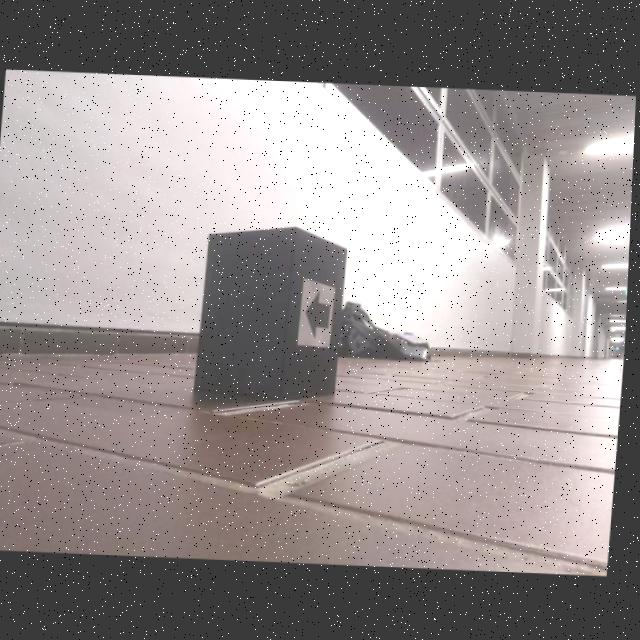LEFT: (307, 289, 333, 338)
